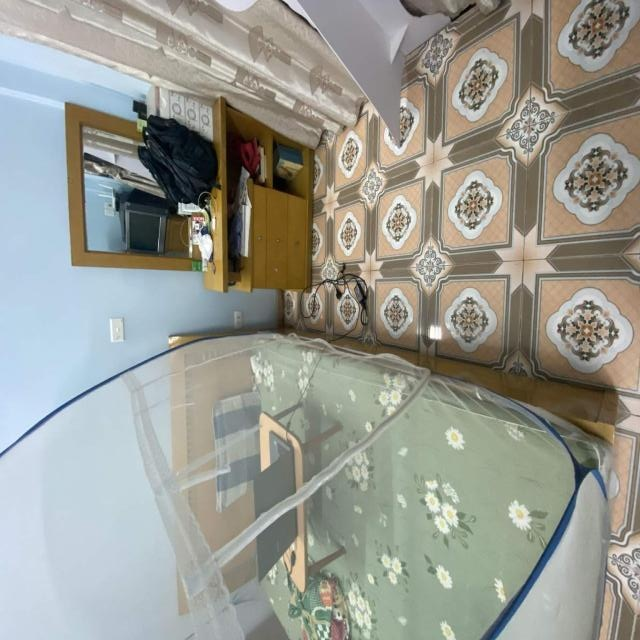outlet: (233, 311, 243, 329)
